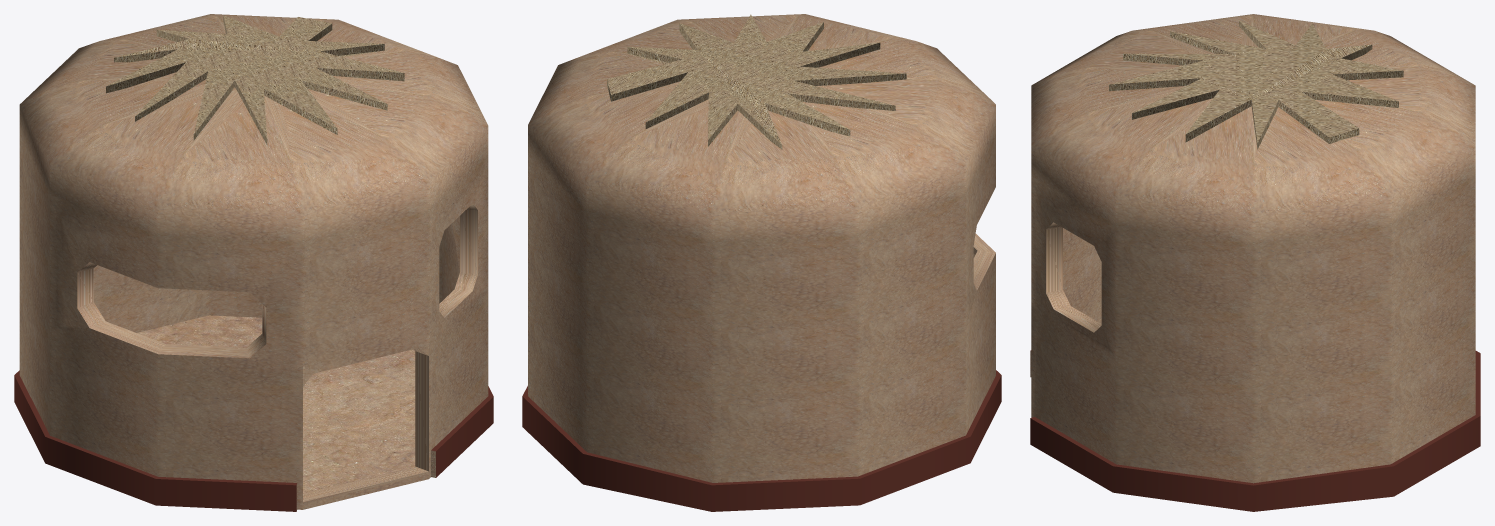
Rendered from house1.FBX.
3 renders of one model, left to right at view 1: azimuth 30°, elevation 25°; view 2: azimuth 150°, elevation 25°; view 3: azimuth 270°, elevation 25°, orthographic.
Visible parts, largest first — view 1: Cylinder002, Cylinder003; view 2: Cylinder002, Cylinder003; view 3: Cylinder002, Cylinder003.
Boxes of the visible parts, x1,y1,x2,y2 form: Cylinder002: (14, 14, 493, 511); Cylinder003: (106, 15, 404, 145); Cylinder002: (522, 14, 1001, 511); Cylinder003: (607, 14, 906, 149); Cylinder002: (1030, 14, 1480, 511); Cylinder003: (1109, 20, 1403, 149).
Size of the model in its own units: 81.87 by 65.6 by 77.17.
